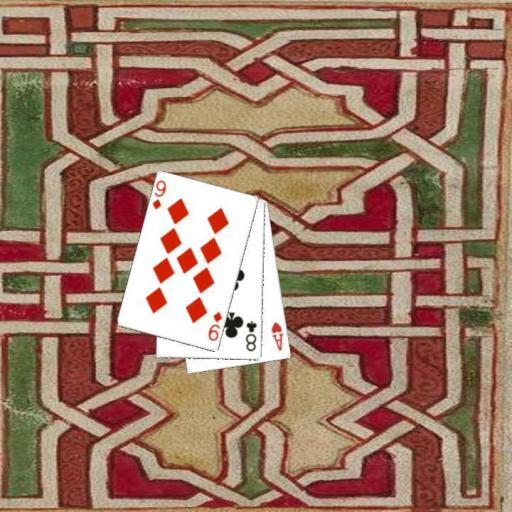8C: (242, 318, 259, 353)
9D: (205, 309, 224, 343), (149, 177, 168, 211)
AH: (268, 319, 285, 352)
